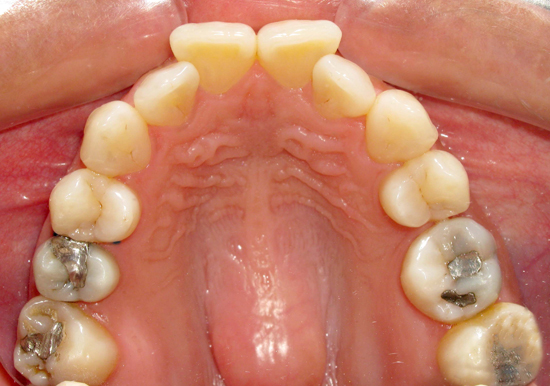UL1BC_healthy: (378, 155, 472, 222)
UL1M_decay: (441, 314, 542, 385)
UL2BC_decay: (406, 225, 497, 313)
ULCI_healthy: (258, 19, 329, 86)
ULC_healthy: (366, 92, 438, 160)
ULLI_healthy: (313, 59, 374, 113)
UR1BC_healthy: (49, 174, 141, 242)
UR1M_decay: (16, 299, 118, 378)
UR2BC_decay: (33, 238, 122, 301)
URCI_healthy: (176, 24, 256, 89)
URC_healthy: (82, 104, 151, 175)
URLI_healthy: (136, 65, 196, 128)
